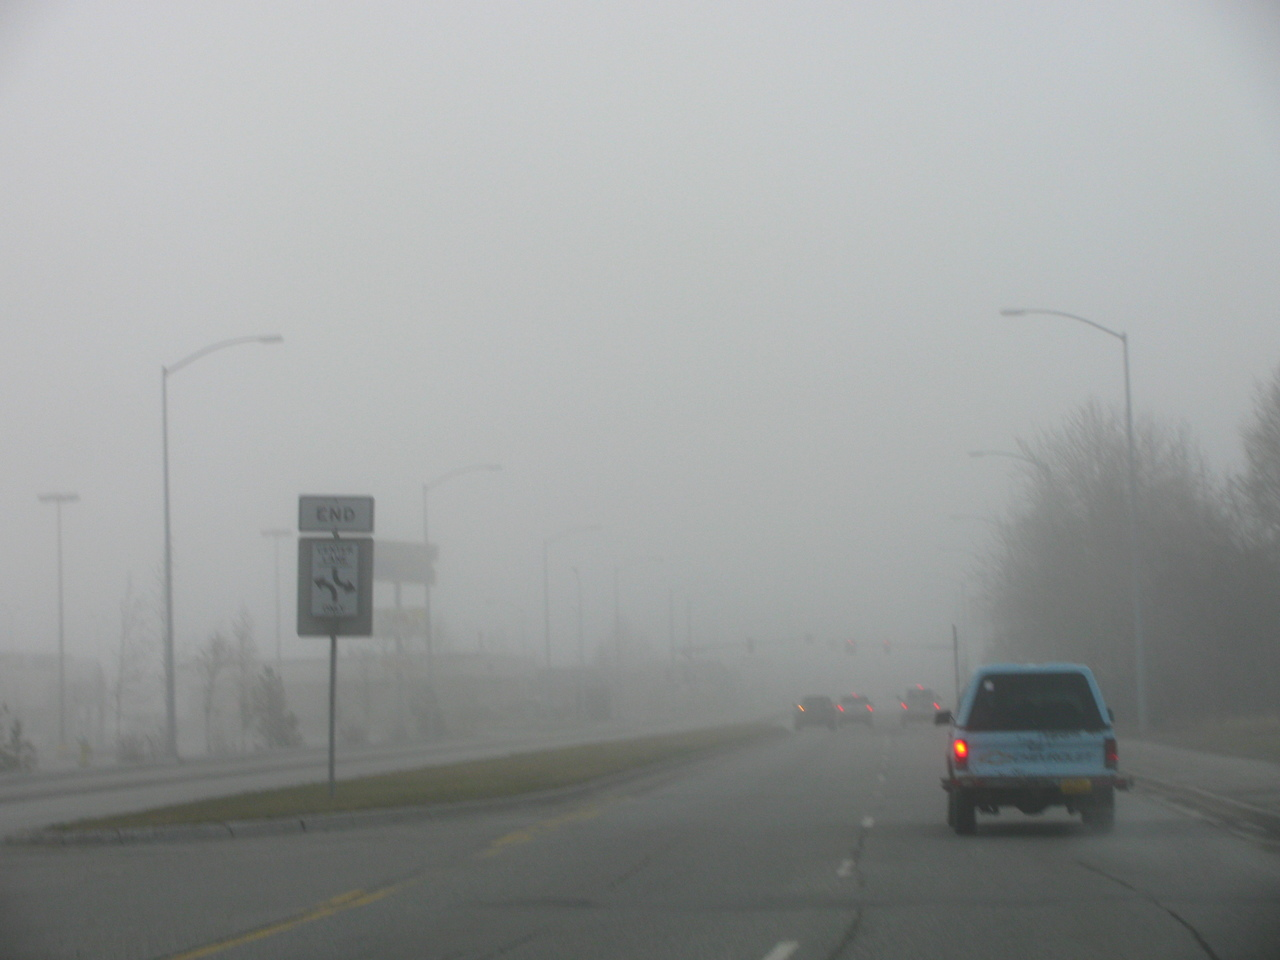car: (942, 671, 1129, 831), (896, 683, 945, 729), (789, 692, 838, 733), (836, 690, 875, 728)
